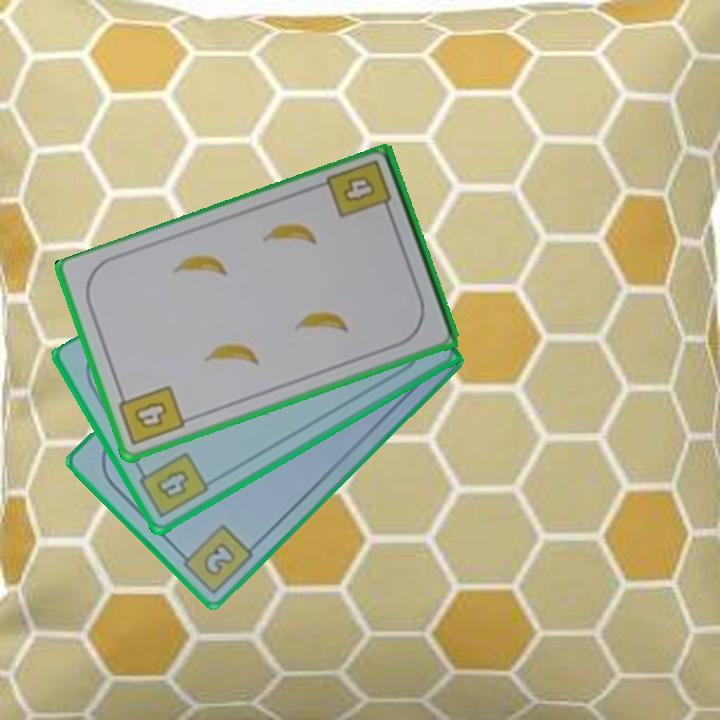2b: (172, 521, 257, 597)
4b: (133, 449, 212, 521), (114, 382, 188, 449), (323, 157, 395, 221)
